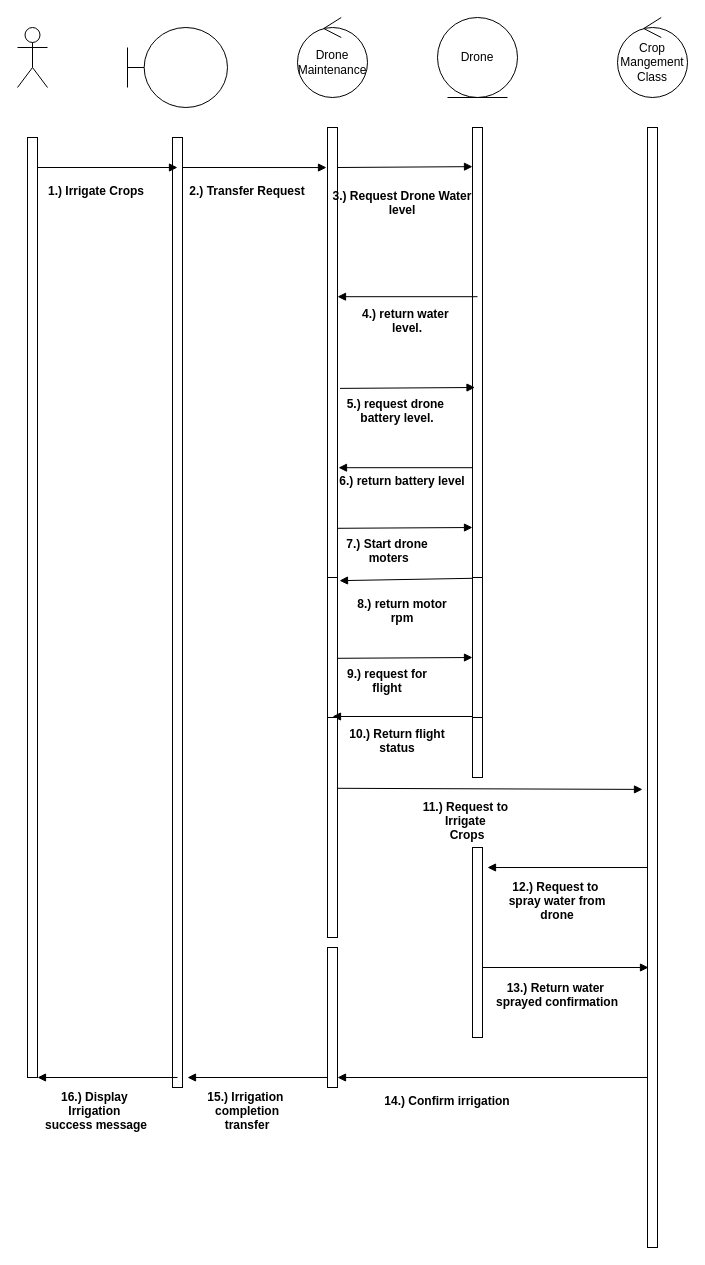
The diagram is 705 pixels wide and 1265 high, and some of its shapes have lost their labels. Here are the shapes that lost their labels. From the top down, the centre of each, then its label:
point 32,57: Actor
point 177,67: User Interface
